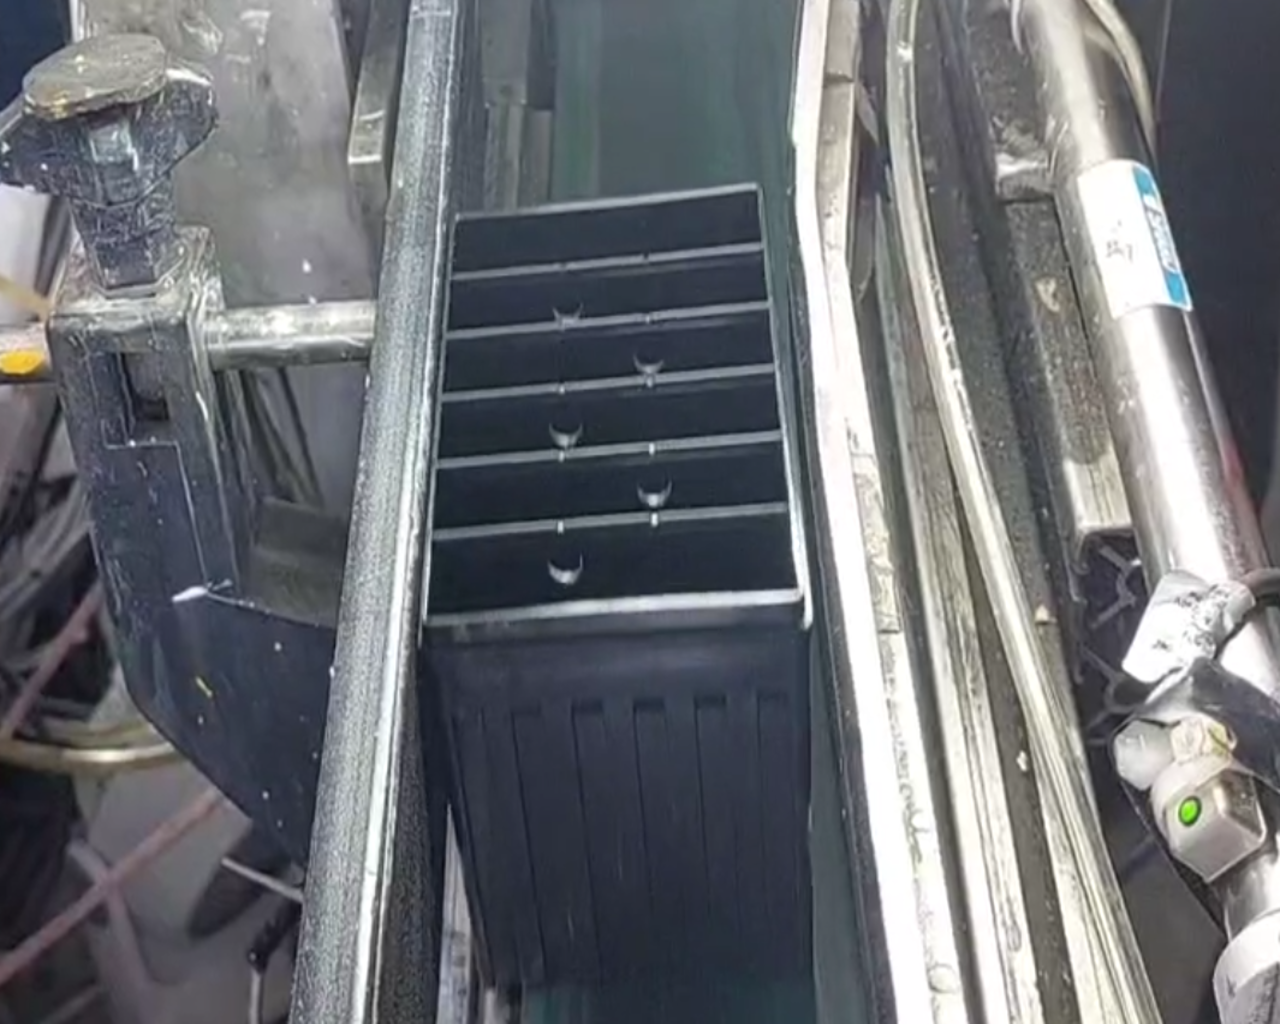box: (403, 167, 834, 671)
round: (532, 530, 597, 593), (623, 458, 687, 516), (536, 398, 595, 455), (621, 335, 680, 382), (538, 286, 592, 326)
